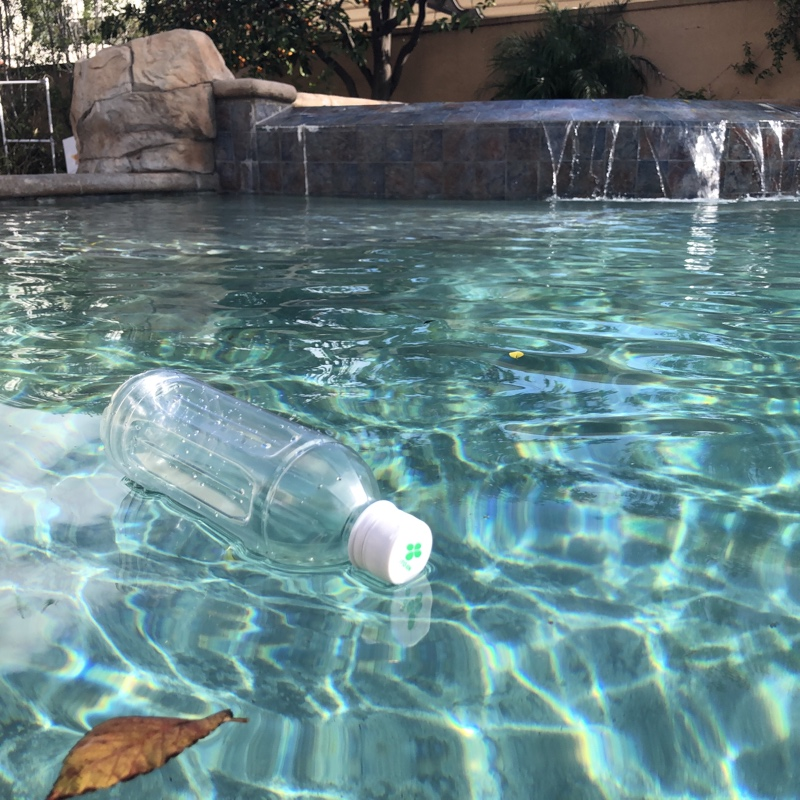Plastic Bottle: (97, 359, 441, 593)
